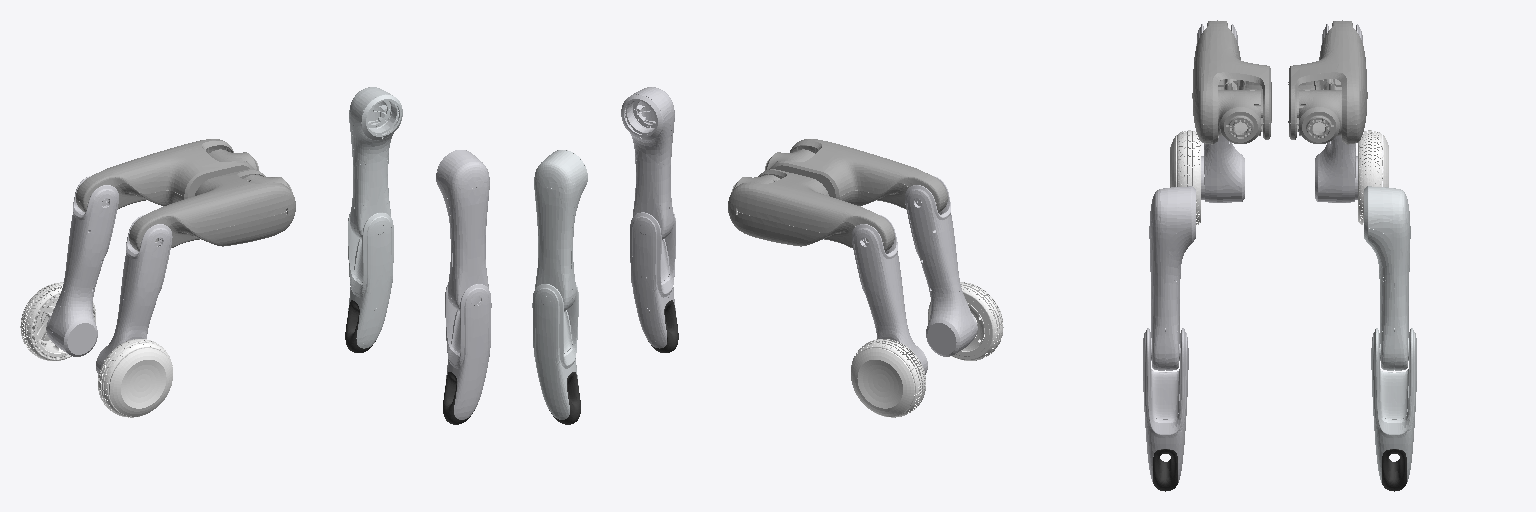
The robot description file, URDF, robot "QD1_T1-V2":
<?xml version='1.0' encoding='utf-8'?>
<robot name="QD1_T1-V2">
  <mujoco>
        <compiler 
        meshdir="../meshes/" 
        balanceinertia="true" 
        discardvisual="false" 
        fusestatic="false" />
  </mujoco>
  <link name="BASELINK">
    <inertial>
      <origin xyz="0.035979 -3.6e-05 0.00257" rpy="0 0 0" />
      <mass value="6.635739" />
      <inertia ixx="0.031132" ixy="0.000283" ixz="-0.00088" iyy="0.081951" iyz="0.000421" izz="0.094587" />
    </inertial>
    <visual>
      <origin xyz="0 0 0" rpy="0 0 0" />
      <geometry>
        <mesh filename="../meshes/baselink.STL" />
      </geometry>
      <material name="">
        <color rgba="0.50196 0.63137 0.70588 1" />
      </material>
    </visual>
    <collision>
      <origin xyz="0 0 0.006" rpy="0 0 0" />
      <geometry>
        <box size="0.23 0.21 0.16" /> 
      </geometry>
    </collision>
    <!-- <collision>
      <origin xyz="0.26 0 -0.0" rpy="0 0 0" />
      <geometry>
        <box size="0.02 0.14 0.1" />
      </geometry>
    </collision> -->
    <collision>
      <!-- <origin xyz="0 0 0" rpy="0 0 0" />
      <geometry>
        <mesh filename="../meshes/FL_HIP_ROLL_Link.STL" />
      </geometry> -->
      <origin xyz="0.21 0 0.005" rpy="0 1.5708 1.5708" />
      <geometry>
        <cylinder radius="0.075" length="0.15" />
      </geometry>
    </collision>
  
  </link>
  <link name="FL_HIP_ROLL_Link">
    <inertial>
      <origin xyz="-0.004102 -0.009464 0.000319" rpy="0 0 0" />
      <mass value="0.530087" />
      <inertia ixx="0.000291" ixy="2.4e-05" ixz="-3e-06" iyy="0.000315" iyz="4e-06" izz="0.000348" />
    </inertial>
    <visual>
      <origin xyz="0 0 0" rpy="0 0 0" />
      <geometry>
        <mesh filename="../meshes/FL_HIP_ROLL_Link.STL" />
      </geometry>
      <material name="">
        <color rgba="1 1 1 1" />
      </material>
    </visual>
    <!-- <collision>
      <origin xyz="0 0 0" rpy="0 0 0" />
      <geometry>
        <mesh filename="../meshes/FL_HIP_ROLL_Link.STL" />
      </geometry>
    </collision> -->
  </link>
  <joint name="FL_HIP_ROLL_Joint" type="revolute">
    <origin xyz="0.1734 0.06 0" rpy="0 0 0" />
    <parent link="BASELINK" />
    <child link="FL_HIP_ROLL_Link" />
    <axis xyz="1 0 0" />
    <limit lower="-0.43633" upper="0.43633" effort="32" velocity="17.802" />
  </joint>
  <link name="FL_HIP_PITCH_Link">
    <inertial>
      <origin xyz="6e-06 0.076477 -0.044782" rpy="0 0 0" />
      <mass value="0.797506" />
      <inertia ixx="0.005373" ixy="-2e-06" ixz="0.0" iyy="0.005105" iyz="0.000916" izz="0.000799" />
    </inertial>
    <visual>
      <origin xyz="0 0 0" rpy="0 0 0" />
      <geometry>
        <mesh filename="../meshes/FL_HIP_PITCH_Link.STL" />
      </geometry>
      <material name="">
        <color rgba="0.898039215686275 0.917647058823529 0.929411764705882 1" />
      </material>
    </visual>
    <collision>
      <!-- <origin xyz="0 0 0" rpy="0 0 0" />
      <geometry>
        <mesh filename="../meshes/FL_HIP_PITCH_Link.STL" />
      </geometry> -->
      <origin xyz="0 0.105 -0.1" rpy="0 0 0" />
      <geometry>
        <box size="0.06 0.04 0.26" /> 
      </geometry>
    </collision>
  </link>
  <joint name="FL_HIP_PITCH_Joint" type="revolute">
    <origin xyz="0 0 0" rpy="0 0 0" />
    <parent link="FL_HIP_ROLL_Link" />
    <child link="FL_HIP_PITCH_Link" />
    <axis xyz="0 1 0" />
    <limit lower="-1.1868" upper="4.3284" effort="32" velocity="17.802" />
  </joint>
  <link name="FL_KNEE_Link">
    <inertial>
      <origin xyz="-0.004363 -0.000941 0.008654" rpy="0 0 0" />
      <mass value="0.565637" />
      <inertia ixx="0.008512" ixy="2e-06" ixz="0.000115" iyy="0.00843" iyz="0.000123" izz="0.000274" />
    </inertial>
    <visual>
      <origin xyz="0 0 0" rpy="0 0 0" />
      <geometry>
        <mesh filename="../meshes/FL_KNEE_Link.STL" />
      </geometry>
      <material name="">
        <color rgba="0.898039215686275 0.917647058823529 0.929411764705882 1" />
      </material>
    </visual>
    <collision>
      <!-- <origin xyz="0 0 0" rpy="0 0 0" />
      <geometry>
        <mesh filename="../meshes/FL_KNEE_Link.STL" />
      </geometry> -->
      <origin xyz="0 0 -0.08" rpy="0 0.05 0" />
      <geometry>
        <box size="0.06 0.04 0.19" /> 
      </geometry>
    </collision>
  </link>
  <joint name="FL_KNEE_Joint" type="revolute">
    <origin xyz="0 0.10615 -0.215" rpy="0 0 0" />
    <parent link="FL_HIP_PITCH_Link" />
    <child link="FL_KNEE_Link" />
    <axis xyz="0 1 0" />
    <limit lower="-2.5831" upper="2.5831" effort="32" velocity="17.802" />
  </joint>
  <link name="FL_FOOT_Link">
    <inertial>
      <origin xyz="0.007006 5.3e-05 0.020523" rpy="0 0 0" />
      <mass value="0.059772" />
      <inertia ixx="5.2e-05" ixy="0.0" ixz="-1e-05" iyy="6.4e-05" iyz="0.0" izz="2.5e-05" />
    </inertial>
    <visual>
      <origin xyz="0 0 0" rpy="0 0 0" />
      <geometry>
        <mesh filename="../meshes/FL_FOOT_Link.STL" />
      </geometry>
      <material name="">
        <color rgba="0.298039215686275 0.298039215686275 0.298039215686275 1" />
      </material>
    </visual>
    <collision>
      <!-- <origin xyz="0 0 0" rpy="0 0 0" />
      <geometry>
        <mesh filename="../meshes/FL_FOOT_Link.STL" />
      </geometry> -->
      <origin xyz="0 0 -0.004" rpy="0 1.5708 1.5708" />
      <geometry>
        <cylinder radius="0.022" length="0.025" />
      </geometry>
    </collision>
  </link>
  <joint name="FL_FOOT_Joint" type="fixed" dont_collapse="true">
    <origin xyz="-0.021555 0 -0.21228" rpy="0 0 0" />
    <parent link="FL_KNEE_Link" />
    <child link="FL_FOOT_Link" />
    <axis xyz="0 0 0" />
    <limit lower="0" upper="0" effort="0" velocity="0" />
  </joint>
  <link name="FR_HIP_ROLL_Link">
    <inertial>
      <origin xyz="-0.005828 0.009443 0.000198" rpy="0 0 0" />
      <mass value="0.539229" />
      <inertia ixx="0.000305" ixy="-2.8e-05" ixz="-1e-06" iyy="0.000364" iyz="-3e-06" izz="0.000387" />
    </inertial>
    <visual>
      <origin xyz="0 0 0" rpy="0 0 0" />
      <geometry>
        <mesh filename="../meshes/FR_HIP_ROLL_Link.STL" />
      </geometry>
      <material name="">
        <color rgba="0.866666666666667 0.866666666666667 0.890196078431372 1" />
      </material>
    </visual>
    <!-- <collision>
      <origin xyz="0 0 0" rpy="0 0 0" />
      <geometry>
        <mesh filename="../meshes/FR_HIP_ROLL_Link.STL" />
      </geometry>
    </collision> -->
  </link>
  <joint name="FR_HIP_ROLL_Joint" type="revolute">
    <origin xyz="0.1734 -0.06 0" rpy="0 0 0" />
    <parent link="BASELINK" />
    <child link="FR_HIP_ROLL_Link" />
    <axis xyz="1 0 0" />
    <limit lower="-0.43633" upper="0.43633" effort="32" velocity="17.802" />
  </joint>
  <link name="FR_HIP_PITCH_Link">
    <inertial>
      <origin xyz="7.1e-05 -0.076417 -0.044494" rpy="0 0 0" />
      <mass value="0.795884" />
      <inertia ixx="0.005341" ixy="0.0" ixz="-2e-06" iyy="0.005072" iyz="-0.000913" izz="0.000798" />
    </inertial>
    <visual>
      <origin xyz="0 0 0" rpy="0 0 0" />
      <geometry>
        <mesh filename="../meshes/FR_HIP_PITCH_Link.STL" />
      </geometry>
      <material name="">
        <color rgba="0.866666666666667 0.866666666666667 0.890196078431372 1" />
      </material>
    </visual>
    <collision>
      <!-- <origin xyz="0 0 0" rpy="0 0 0" />
      <geometry>
        <mesh filename="../meshes/FR_HIP_PITCH_Link.STL" />
      </geometry> -->
      <origin xyz="0 -0.105 -0.1" rpy="0 0 0" />
      <geometry>
        <box size="0.06 0.04 0.26" /> 
      </geometry>
    </collision>
  </link>
  <joint name="FR_HIP_PITCH_Joint" type="revolute">
    <origin xyz="0 0 0" rpy="0 0 0" />
    <parent link="FR_HIP_ROLL_Link" />
    <child link="FR_HIP_PITCH_Link" />
    <axis xyz="0 1 0" />
    <limit lower="-1.1868" upper="4.3284" effort="32" velocity="17.802" />
  </joint>
  <link name="FR_KNEE_Link">
    <inertial>
      <origin xyz="-0.004334 0.001546 0.006432" rpy="0 0 0" />
      <mass value="0.574565" />
      <inertia ixx="0.008535" ixy="-3e-06" ixz="0.000114" iyy="0.008453" iyz="-0.000104" izz="0.000284" />
    </inertial>
    <visual>
      <origin xyz="0 0 0" rpy="0 0 0" />
      <geometry>
        <mesh filename="../meshes/FR_KNEE_Link.STL" />
      </geometry>
      <material name="">
        <color rgba="0.866666666666667 0.866666666666667 0.890196078431372 1" />
      </material>
    </visual>
    <collision>
      <!-- <origin xyz="0 0 0" rpy="0 0 0" />
      <geometry>
        <mesh filename="../meshes/FR_KNEE_Link.STL" />
      </geometry> -->
      <origin xyz="0 0 -0.08" rpy="0 0.0 0.05" />
      <geometry>
        <box size="0.06 0.04 0.19" /> 
      </geometry>
    </collision>
  </link>
  <joint name="FR_KNEE_Joint" type="revolute">
    <origin xyz="0 -0.10615 -0.215" rpy="0 0 0" />
    <parent link="FR_HIP_PITCH_Link" />
    <child link="FR_KNEE_Link" />
    <axis xyz="0 1 0" />
    <limit lower="-2.5831" upper="2.5831" effort="32" velocity="17.802" />
  </joint>
  <link name="FR_FOOT_Link">
    <inertial>
      <origin xyz="0.007006 -4.7e-05 0.020523" rpy="0 0 0" />
      <mass value="0.059772" />
      <inertia ixx="5.2e-05" ixy="0.0" ixz="-1e-05" iyy="6.4e-05" iyz="0.0" izz="2.5e-05" />
    </inertial>
    <visual>
      <origin xyz="0 0 0" rpy="0 0 0" />
      <geometry>
        <mesh filename="../meshes/FR_FOOT_Link.STL" />
      </geometry>
      <material name="">
        <color rgba="0.298039215686275 0.298039215686275 0.298039215686275 1" />
      </material>
    </visual>
    <collision>
      <!-- <origin xyz="0 0 0" rpy="0 0 0" />
      <geometry>
        <mesh filename="../meshes/FR_FOOT_Link.STL" />
      </geometry> -->
      <origin xyz="0 0 -0.004" rpy="0 1.5708 1.5708" />
      <geometry>
        <cylinder radius="0.022" length="0.025" />
      </geometry>
    </collision>
  </link>
  <joint name="FR_FOOT_Joint" type="fixed" dont_collapse="true">
    <origin xyz="-0.021555 0 -0.21228" rpy="0 0 0" />
    <parent link="FR_KNEE_Link" />
    <child link="FR_FOOT_Link" />
    <axis xyz="0 0 0" />
    <limit lower="0" upper="0" effort="0" velocity="0" />
  </joint>
  <link name="RL_HIP_ROLL_Link">
    <inertial>
      <origin xyz="0.003833 0.004876 -4e-06" rpy="0 0 0" />
      <mass value="0.56045" />
      <!-- <inertia ixx="0.000253" ixy="8e-06" ixz="0.0" iyy="0.00031" iyz="0.0" izz="0.0003" /> -->
      <inertia ixx="0.000269025" ixy="8e-06" ixz="0.0" iyy="0.000365928" iyz="0.0" izz="0.000357861" />
    </inertial>
    <visual>
      <origin xyz="0 0 0" rpy="0 0 0" />
      <geometry>
        <mesh filename="../meshes/RL_HIP_ROLL_Link.STL" />
      </geometry>
      <material name="">
        <color rgba="0.698039215686274 0.698039215686274 0.698039215686274 1" />
      </material>
    </visual>
    <collision>
      <!-- <origin xyz="0 0 0" rpy="0 0 0" />
      <geometry>
        <mesh filename="../meshes/RL_HIP_ROLL_Link.STL" />
      </geometry> -->
      <origin xyz="0 -0.017 0.003" rpy="0 1.5708 1.5708" />
      <geometry>
        <cylinder radius="0.034" length="0.05" />
      </geometry>
    </collision>
  </link>
  <joint name="RL_HIP_ROLL_Joint" type="revolute">
    <origin xyz="-0.1732 0.057 0" rpy="0 0 0" />
    <parent link="BASELINK" />
    <child link="RL_HIP_ROLL_Link" />
    <axis xyz="1 0 0" />
    <limit lower="-1.5359" upper="1.5359" effort="32" velocity="17.802" />
  </joint>
  <link name="RL_HIP_PITCH_Link">
    <inertial>
      <origin xyz="-0.000865 0.01241 -0.087101" rpy="0 0 0" />
      <mass value="1.0679" />
      <inertia ixx="0.005778303" ixy="1.7e-05" ixz="-9.1e-05" iyy="0.005361057" iyz="0.000361" izz="0.001326612" />
    </inertial>
    <visual>
      <origin xyz="0 0 0" rpy="0 0 0" />
      <geometry>
        <mesh filename="../meshes/RL_HIP_PITCH_Link.STL" />
      </geometry>
      <material name="">
        <color rgba="0.698039215686274 0.698039215686274 0.698039215686274 1" />
      </material>
    </visual>
    <collision>
      <!-- <origin xyz="0 0 0" rpy="0 0 0" />
      <geometry>
        <mesh filename="../meshes/RL_HIP_PITCH_Link.STL" />
      </geometry> -->
      <origin xyz="-0.008 0.04 -0.1" rpy="0 0 0" />
      <geometry>
        <box size="0.06 0.045 0.26" />
      </geometry>
    </collision>
    <collision>
      <origin xyz="0 -0.017 -0.07" rpy="1.57 0 0" />
      <geometry>
        <cylinder radius="0.036" length="0.05" />
      </geometry>
    </collision>
  </link>
  <joint name="RL_HIP_PITCH_Joint" type="revolute">
    <origin xyz="0 0 0" rpy="0 0 0" />
    <parent link="RL_HIP_ROLL_Link" />
    <child link="RL_HIP_PITCH_Link" />
    <axis xyz="0 1 0" />
    <limit lower="0.034907" upper="3.1067" effort="32" velocity="17.802" />
  </joint>
  <link name="RL_KNEE_Link">
    <inertial>
      <origin xyz="-0.000397 -0.000896 -0.13944" rpy="0 0 0" />
      <mass value="0.905976" />
      <inertia ixx="0.016087" ixy="-3e-06" ixz="-2.4e-05" iyy="0.016053" iyz="2e-06" izz="0.0004734" />
    </inertial>
    <visual>
      <origin xyz="0 0 0" rpy="0 0 0" />
      <geometry>
        <mesh filename="../meshes/RL_KNEE_Link.STL" />
      </geometry>
      <material name="">
        <color rgba="0.866666666666667 0.866666666666667 0.890196078431372 1" />
      </material>
    </visual>
    <collision>
      <!-- <origin xyz="0 0 0" rpy="0 0 0" />
      <geometry>
        <mesh filename="../meshes/RL_KNEE_Link.STL" />
      </geometry> -->
      <origin xyz="0 0 -0.08" rpy="0 0 0" />
      <geometry>
        <box size="0.06 0.04 0.21" />
      </geometry>
    </collision>
    <collision>
      <origin xyz="0 -0.015 -0.245" rpy="1.57 0 0" />
      <geometry>
        <cylinder radius="0.04" length="0.05" />
      </geometry>
    </collision>
  </link>
  <joint name="RL_KNEE_Joint" type="revolute">
    <origin xyz="0 0.03365 -0.235" rpy="0 0 0" />
    <parent link="RL_HIP_PITCH_Link" />
    <child link="RL_KNEE_Link" />
    <axis xyz="0 1 0" />
    <limit lower="-2.4958" upper="-0.20944" effort="32" velocity="17.802" />
  </joint>
  <link name="RL_FOOT_Link">
    <inertial>
      <origin xyz="-2.2e-05 -0.025714 5.3e-05" rpy="0 0 0" />
      <mass value="0.29488" />
      <inertia ixx="0.00045710" ixy="0.0" ixz="-1e-06" iyy="0.000837" iyz="0.0" izz="0.0004561" />
    </inertial>
    <visual>
      <origin xyz="0 0 0" rpy="0 0 0" />
      <geometry>
        <mesh filename="../meshes/RL_FOOT_Link.STL" />
      </geometry>
      <material name="">
        <color rgba="1 1 1 0.35" />
      </material>
    </visual>
    <!-- <collision>
      <origin xyz="0 0 0" rpy="0 0 0" />
      <geometry>
        <mesh filename="../meshes/RL_FOOT_Link.STL" />
      </geometry>
    </collision> -->
    <collision>
        <origin xyz="0 -0.025 0" rpy="1.57 0 0" />
        <geometry>
          <cylinder radius="0.07" length="0.03" />
        </geometry>
      </collision>
  </link>
  <joint name="RL_FOOT_Joint" type="revolute">
    <origin xyz="0 0.068415 -0.245" rpy="0 0 0" />
    <parent link="RL_KNEE_Link" />
    <child link="RL_FOOT_Link" />
    <axis xyz="0 1 0" />
    <limit lower="-999999999999" upper="999999999999" effort="15" velocity="38.746" />
  </joint>
  <link name="RR_HIP_ROLL_Link">
    <inertial>
      <origin xyz="0.003839 -0.004881 4e-06" rpy="0 0 0" />
      <mass value="0.5619" />
      <inertia ixx="0.0002704" ixy="-8e-06" ixz="0.0" iyy="0.00036599" iyz="0.0" izz="0.000359664" />
    </inertial>
    <visual>
      <origin xyz="0 0 0" rpy="0 0 0" />
      <geometry>
        <mesh filename="../meshes/RR_HIP_ROLL_Link.STL" />
      </geometry>
      <material name="">
        <color rgba="0.698039215686274 0.698039215686274 0.698039215686274 1" />
      </material>
    </visual>
    <collision>
      <!-- <origin xyz="0 0 0" rpy="0 0 0" />
      <geometry>
        <mesh filename="../meshes/RR_HIP_ROLL_Link.STL" />
      </geometry> -->
      <origin xyz="0 0.017 0.003" rpy="0 1.5708 1.5708" />
      <geometry>
        <cylinder radius="0.034" length="0.05" />
      </geometry>
    </collision>
  </link>
  <joint name="RR_HIP_ROLL_Joint" type="revolute">
    <origin xyz="-0.1732 -0.057 0" rpy="0 0 0" />
    <parent link="BASELINK" />
    <child link="RR_HIP_ROLL_Link" />
    <axis xyz="1 0 0" />
    <limit lower="-1.57202" upper="1.5359" effort="32" velocity="17.802" />
  </joint>
  <link name="RR_HIP_PITCH_Link">
    <inertial>
      <origin xyz="-0.000925 -0.01372 -0.086425" rpy="0 0 0" />
      <mass value="1.0377" />
      <inertia ixx="0.005338" ixy="-2.2e-05" ixz="-8.4e-05" iyy="0.0053619" iyz="-0.000305" izz="0.001248" />
    </inertial>
    <visual>
      <origin xyz="0 0 0" rpy="0 0 0" />
      <geometry>
        <mesh filename="../meshes/RR_HIP_PITCH_Link.STL" />
      </geometry>
      <material name="">
        <color rgba="0.698039215686274 0.698039215686274 0.698039215686274 1" />
      </material>
    </visual>
    <collision>
      <!-- <origin xyz="0 0 0" rpy="0 0 0" />
      <geometry>
        <mesh filename="../meshes/RR_HIP_PITCH_Link.STL" />
      </geometry> -->
      <origin xyz="-0.008 -0.04 -0.1" rpy="0 0 0" />
      <geometry>
        <box size="0.06 0.045 0.26" />
      </geometry>
    </collision>
    <collision>
      <origin xyz="0 0.017 -0.07" rpy="1.57 0 0" />
      <geometry>
        <cylinder radius="0.036" length="0.05" />
      </geometry>
    </collision>
  </link>
  <joint name="RR_HIP_PITCH_Joint" type="revolute">
    <origin xyz="0 0 0" rpy="0 0 0" />
    <parent link="RR_HIP_ROLL_Link" />
    <child link="RR_HIP_PITCH_Link" />
    <axis xyz="0 1 0" />
    <limit lower="0.034907" upper="3.1067" effort="32" velocity="17.802" />
  </joint>
  <link name="RR_KNEE_Link">
    <inertial>
      <origin xyz="-0.000666 0.000775 -0.160064" rpy="0 0 0" />
      <mass value="0.9091" />
      <inertia ixx="0.01614" ixy="-4e-06" ixz="0.000145" iyy="0.016113" iyz="3.5e-05" izz="0.000476266" />
    </inertial>
    <visual>
      <origin xyz="0 0 0" rpy="0 0 0" />
      <geometry>
        <mesh filename="../meshes/RR_KNEE_Link.STL" />
      </geometry>
      <material name="">
        <color rgba="0.866666666666667 0.866666666666667 0.890196078431372 1" />
      </material>
    </visual>
    <collision>
      <!-- <origin xyz="0 0 0" rpy="0 0 0" />
      <geometry>
        <mesh filename="../meshes/RR_KNEE_Link.STL" />
      </geometry> -->
      <origin xyz="0 0 -0.08" rpy="0 0 0" />
      <geometry>
        <box size="0.06 0.04 0.21" />
      </geometry>
    </collision>
    <collision>
      <origin xyz="0 0.015 -0.245" rpy="1.57 0 0" />
      <geometry>
        <cylinder radius="0.04" length="0.05" />
      </geometry>
    </collision>
  </link>
  <joint name="RR_KNEE_Joint" type="revolute">
    <origin xyz="0 -0.03395 -0.235" rpy="0 0 0" />
    <parent link="RR_HIP_PITCH_Link" />
    <child link="RR_KNEE_Link" />
    <axis xyz="0 1 0" />
    <limit lower="-2.4958" upper="-0.20944" effort="32" velocity="17.802" />
  </joint>
  <link name="RR_FOOT_Link">
    <inertial>
      <origin xyz="0.0 0.025556 0.0" rpy="0 0 0" />
      <mass value="0.29488" />
      <inertia ixx="0.0004606" ixy="0.0" ixz="0.0" iyy="0.000842" iyz="0.0" izz="0.0006639" />
    </inertial>
    <visual>
      <origin xyz="0 0 0" rpy="0 0 0" />
      <geometry>
        <mesh filename="../meshes/RR_FOOT_Link.STL" />
      </geometry>
      <material name="">
        <color rgba="1 1 1 1" />
      </material>
    </visual>
    <collision>
      <!-- <origin xyz="0 0 0" rpy="0 0 0" />
      <geometry>
        <mesh filename="../meshes/RR_FOOT_Link.STL" />
      </geometry> -->
      <origin xyz="0 0.025 0" rpy="1.57 0 0" />
        <geometry>
          <cylinder radius="0.07" length="0.03" />
        </geometry>
    </collision>
  </link>
  <joint name="RR_FOOT_Joint" type="revolute">
    <origin xyz="0 -0.068415 -0.245" rpy="0 0 0" />
    <parent link="RR_KNEE_Link" />
    <child link="RR_FOOT_Link" />
    <axis xyz="0 1 0" />
    <limit lower="-999999999999" upper="999999999999" effort="15" velocity="38.746" />
  </joint>
</robot>

--- What the picture shows (computed from the rendered views, not written in the file) ---
The picture shows the robot from 3 angles, left to right: view 1: azimuth 30°, elevation 25°; view 2: azimuth 150°, elevation 25°; view 3: azimuth 270°, elevation 25°; orthographic projection.
Robot: QD1_T1-V2 — 17 links, 16 joints (14 revolute, 2 fixed); root link BASELINK; default pose: all joints at 0 but 4 set to mid-range because 0 is outside their limits (RL_HIP_PITCH_Joint = 1.57, RL_KNEE_Joint = -1.35, RR_HIP_PITCH_Joint = 1.57, RR_KNEE_Joint = -1.35).
Links seen in each view (by area): view 1: RR_HIP_PITCH_Link, RL_KNEE_Link, RL_HIP_PITCH_Link, FR_HIP_PITCH_Link, FL_HIP_PITCH_Link, FL_KNEE_Link, FR_KNEE_Link, RR_FOOT_Link, RR_KNEE_Link, RL_FOOT_Link, FL_FOOT_Link, FR_FOOT_Link; view 2: RL_HIP_PITCH_Link, RR_KNEE_Link, RR_HIP_PITCH_Link, FL_HIP_PITCH_Link, FR_HIP_PITCH_Link, FL_KNEE_Link, FR_KNEE_Link, RL_FOOT_Link, RL_KNEE_Link, RR_FOOT_Link, FR_FOOT_Link, FL_FOOT_Link; view 3: FR_HIP_PITCH_Link, FL_HIP_PITCH_Link, RR_HIP_PITCH_Link, RL_HIP_PITCH_Link, FR_KNEE_Link, FL_KNEE_Link, RR_KNEE_Link, RL_KNEE_Link, RL_HIP_ROLL_Link, RR_HIP_ROLL_Link, RR_FOOT_Link, RL_FOOT_Link (+2 smaller).
Boxes of the visible links, x1,y1,x2,y2 form: RR_HIP_PITCH_Link: (129, 169, 295, 251); RL_KNEE_Link: (46, 176, 118, 356); RL_HIP_PITCH_Link: (76, 139, 254, 212); FR_HIP_PITCH_Link: (436, 150, 489, 311); FL_HIP_PITCH_Link: (349, 87, 402, 239); FL_KNEE_Link: (347, 212, 393, 348); FR_KNEE_Link: (444, 284, 491, 419); RR_FOOT_Link: (98, 339, 172, 417); RR_KNEE_Link: (96, 215, 172, 374); RL_FOOT_Link: (20, 282, 95, 360); FL_FOOT_Link: (345, 300, 375, 352); FR_FOOT_Link: (443, 372, 474, 424); RL_HIP_PITCH_Link: (728, 169, 894, 251); RR_KNEE_Link: (905, 176, 977, 356); RR_HIP_PITCH_Link: (769, 139, 947, 212); FL_HIP_PITCH_Link: (534, 150, 587, 311); FR_HIP_PITCH_Link: (621, 87, 674, 239); FL_KNEE_Link: (532, 284, 578, 419); FR_KNEE_Link: (630, 212, 676, 348); RL_FOOT_Link: (851, 339, 925, 417); RL_KNEE_Link: (852, 215, 927, 374); RR_FOOT_Link: (928, 282, 1003, 360); FR_FOOT_Link: (648, 300, 678, 352); FL_FOOT_Link: (549, 372, 580, 424); FR_HIP_PITCH_Link: (1149, 186, 1195, 370); FL_HIP_PITCH_Link: (1364, 186, 1410, 370); RR_HIP_PITCH_Link: (1192, 20, 1271, 144); RL_HIP_PITCH_Link: (1288, 20, 1367, 144); FR_KNEE_Link: (1143, 328, 1188, 482); FL_KNEE_Link: (1371, 328, 1416, 482); RR_KNEE_Link: (1196, 24, 1244, 202); RL_KNEE_Link: (1315, 24, 1362, 202); RL_HIP_ROLL_Link: (1297, 90, 1341, 143); RR_HIP_ROLL_Link: (1218, 90, 1262, 143); RR_FOOT_Link: (1170, 130, 1200, 224); RL_FOOT_Link: (1358, 130, 1388, 224).
Size in the robot's own frame: 0.7454 by 0.3994 by 0.5034 metres.
Meshes: 17 distinct files referenced, 14 mesh visuals loaded (14 binary STL); not drawn: 3 (reference not matched to a file when rendering).
